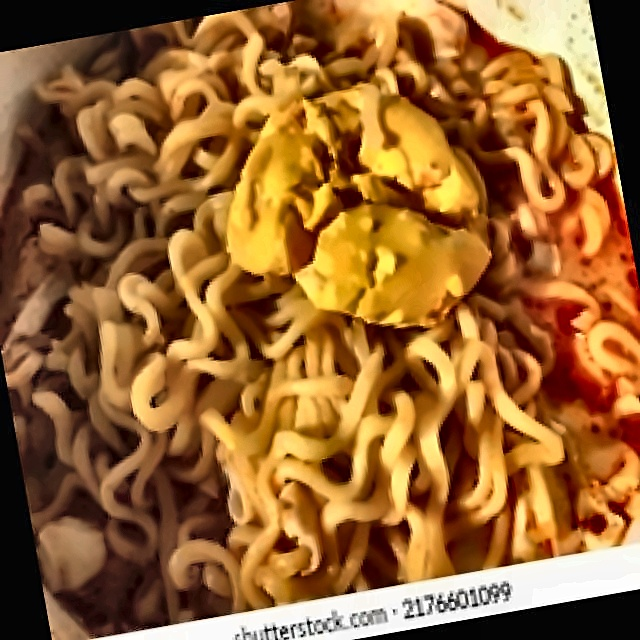noodle: (0, 11, 640, 640), (64, 176, 523, 634)
